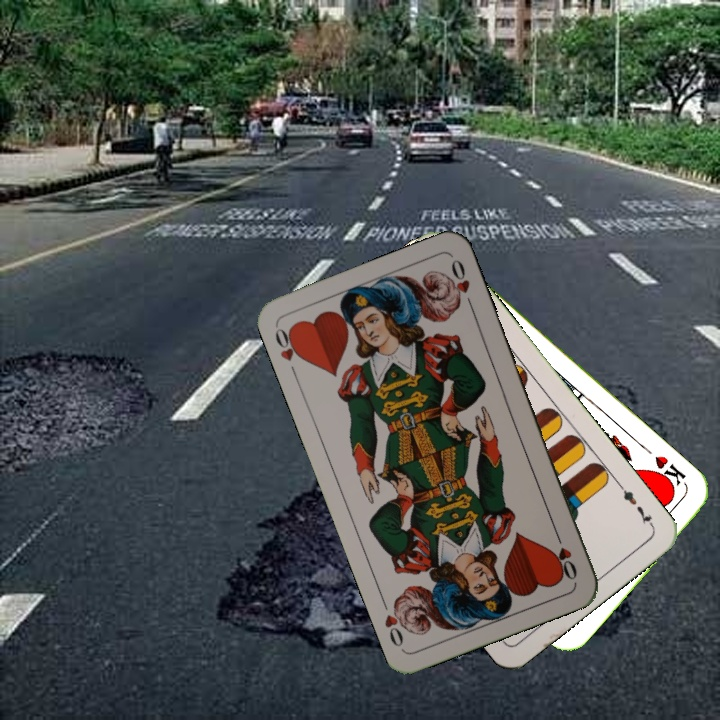E7: (614, 479, 656, 530)
HK: (647, 451, 689, 494)
HO: (271, 322, 307, 380), (550, 526, 580, 583)
